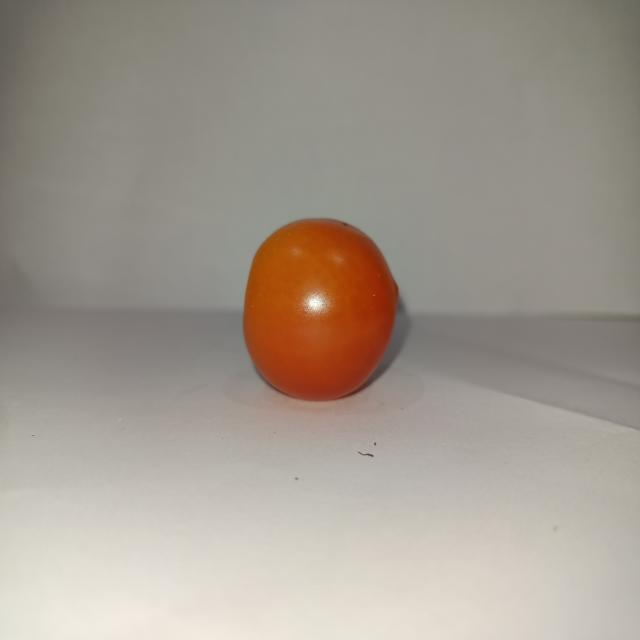Red: (241, 216, 399, 401)
